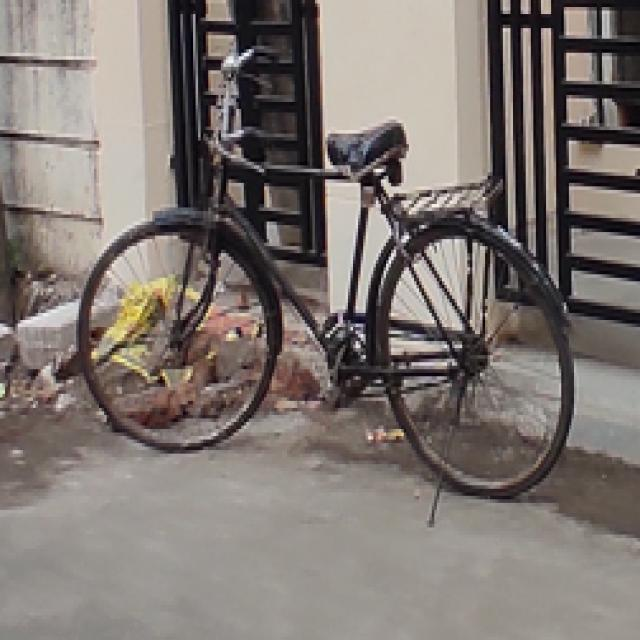bicycle: (63, 26, 297, 496)
